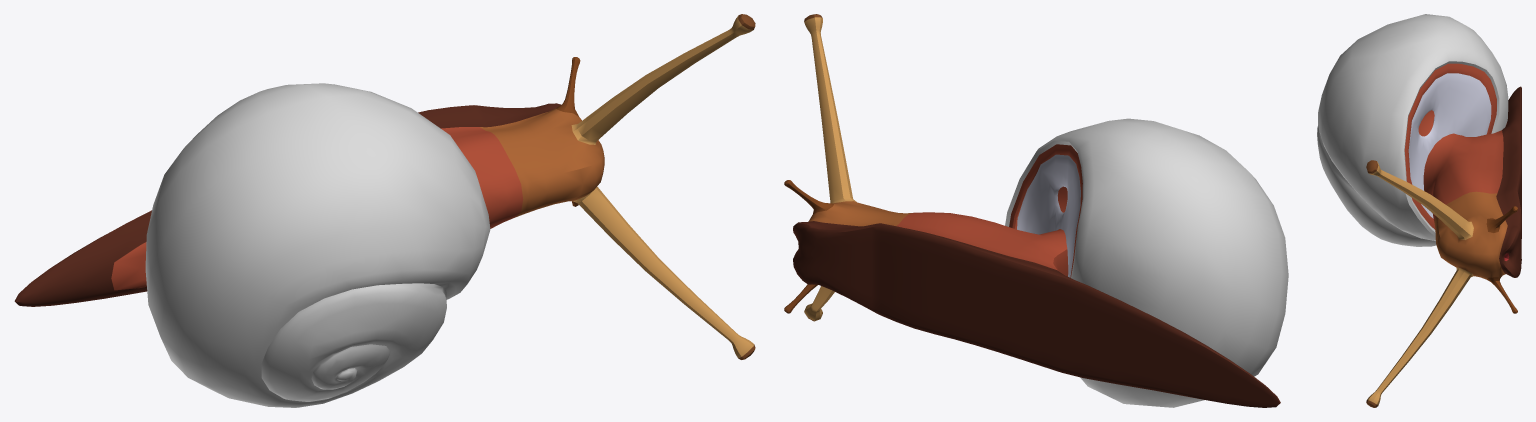
File: Snail_anatomy_hi.obj
3 renders of one model, left to right at view 1: azimuth 30°, elevation 25°; view 2: azimuth 150°, elevation 25°; view 3: azimuth 270°, elevation 25°, orthographic. The views are drawn at different scales.
Visible parts, largest first — view 1: shell, body; view 2: body, shell, mantle; view 3: shell, body, mantle.
Part boxes in pixels (bbox=[...]): shell: bbox=[145, 83, 490, 407]; body: bbox=[14, 14, 755, 359]; body: bbox=[784, 14, 1280, 407]; shell: bbox=[1005, 118, 1288, 407]; mantle: bbox=[1017, 154, 1080, 277]; shell: bbox=[1317, 14, 1508, 246]; body: bbox=[1366, 63, 1521, 407]; mantle: bbox=[1408, 73, 1491, 218].
Size of the model in its own units: 0.2647 by 0.1369 by 0.1029.
